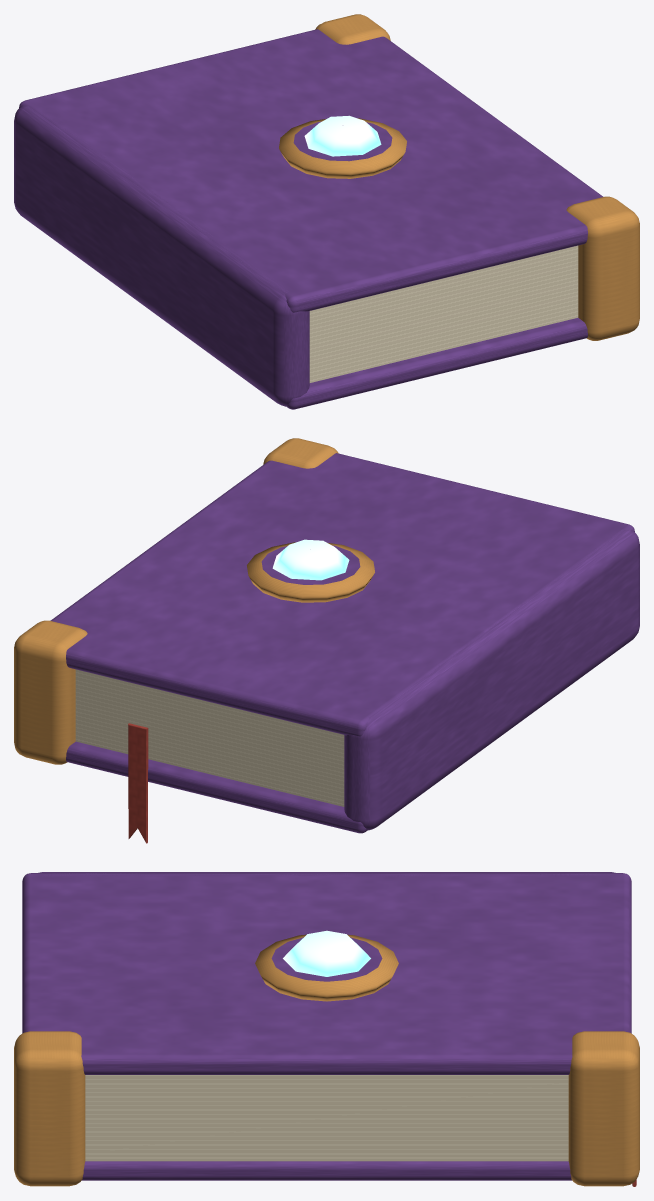
The model's file is spell_book.glb.
The picture shows the model from 3 angles, top to bottom: view 1: azimuth 30°, elevation 25°; view 2: azimuth 150°, elevation 25°; view 3: azimuth 270°, elevation 25°; orthographic projection. The views are drawn at different scales.
Visible parts, largest first — view 1: spell_book; view 2: spell_book; view 3: spell_book.
Part boxes in pixels (<box>): spell_book: <box>14,14,639,409</box>; spell_book: <box>14,438,639,843</box>; spell_book: <box>14,872,639,1186</box>.
Size of the model in its own units: 0.167 by 0.088 by 0.226.
5 materials, 4 textured.
